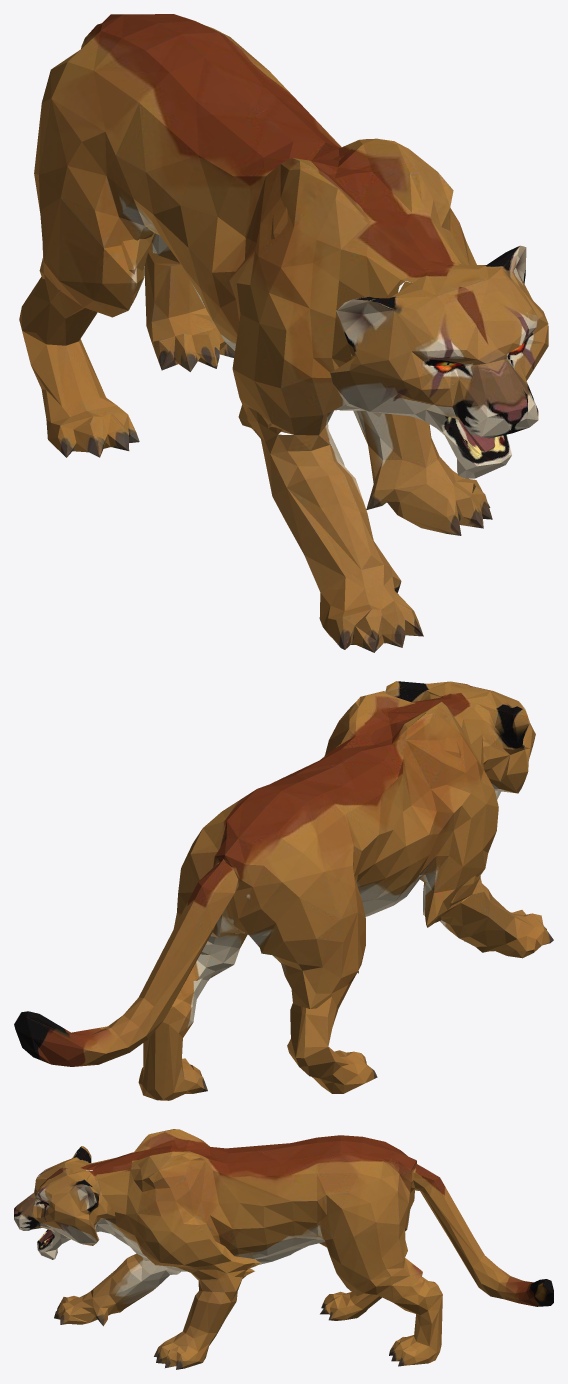
The model's file is modelo.glb.
The picture shows the model from 3 angles, top to bottom: view 1: azimuth 30°, elevation 25°; view 2: azimuth 150°, elevation 25°; view 3: azimuth 270°, elevation 25°; orthographic projection. The views are drawn at different scales.
Parts seen in each view (by area): view 1: yacare; view 2: yacare; view 3: yacare.
Part boxes in pixels (x1,y1,x2,y2): yacare: [19, 14, 548, 652]; yacare: [14, 681, 553, 1100]; yacare: [14, 1129, 553, 1369].
Size of the model in its own units: 0.6349 by 0.809 by 2.
Materials: 1 (1 with a texture image).
